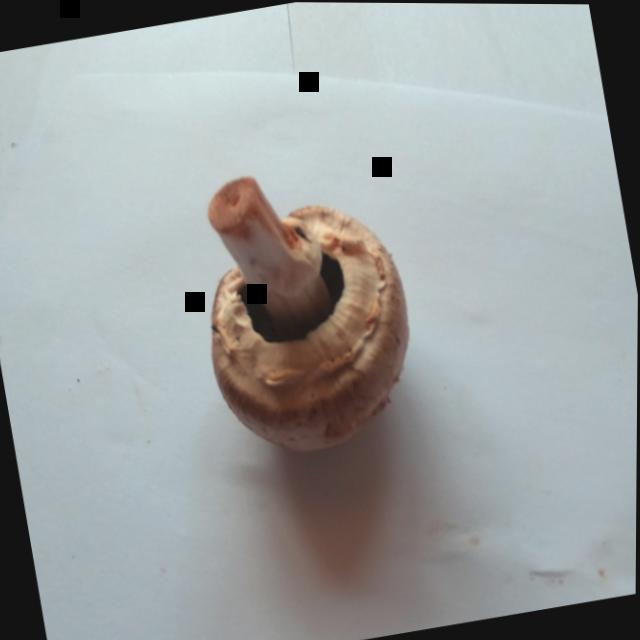Buttonmushroom: (141, 129, 455, 535)
